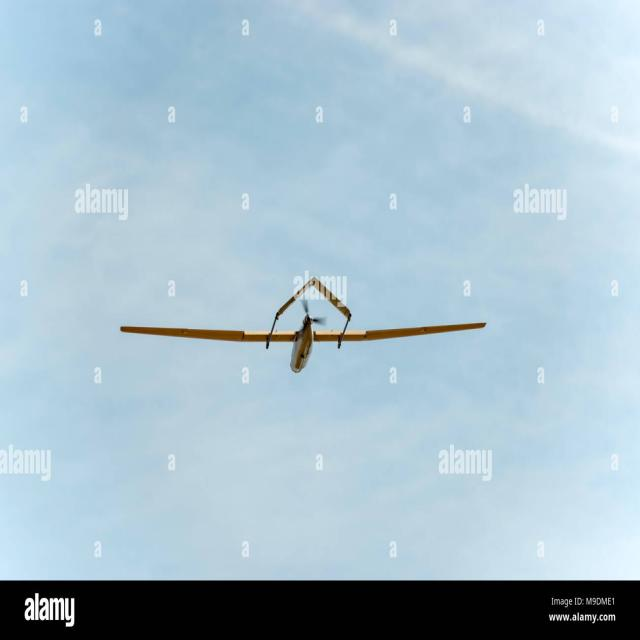drones: (110, 272, 491, 380)
